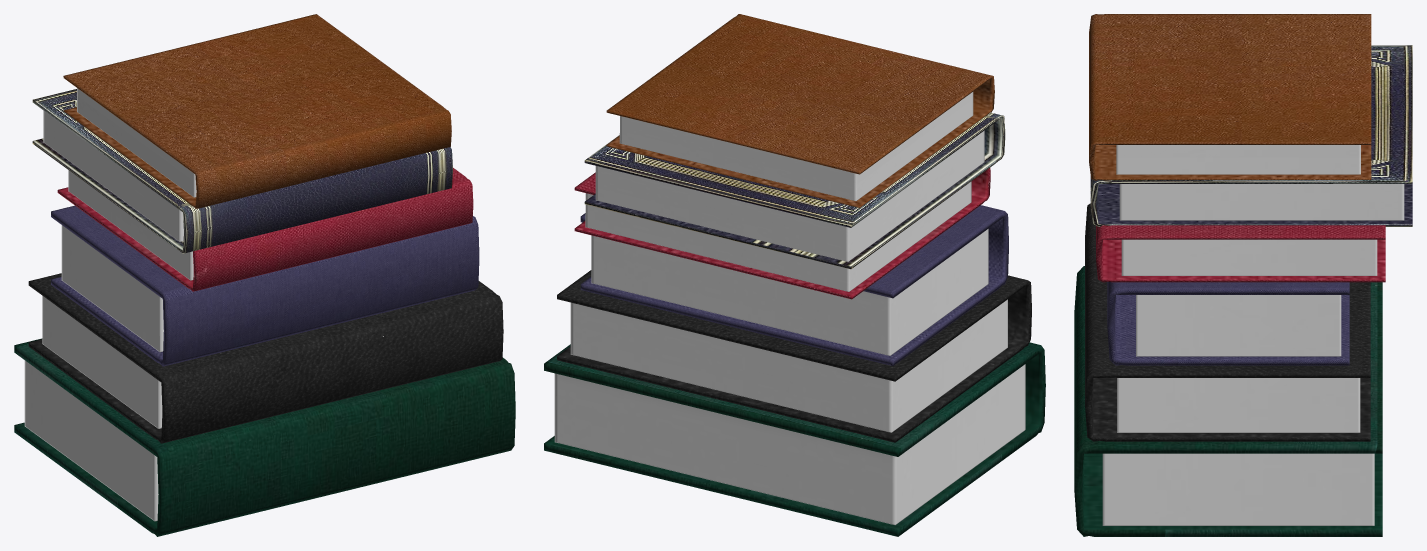
The model's file is Books_004.fbx.
The picture shows the model from 3 angles, left to right: view 1: azimuth 30°, elevation 25°; view 2: azimuth 150°, elevation 25°; view 3: azimuth 270°, elevation 25°; orthographic projection. The views are drawn at different scales.
Visible parts, largest first — view 1: book.048, book.051, book.046, book.047, book.049, book.050; view 2: book.051, book.048, book.046, book.047, book.049, book.050; view 3: book.048, book.051, book.046, book.049, book.047, book.050.
Part boxes in pixels (<box>): book.048: <box>63,14,451,208</box>; book.051: <box>14,338,515,536</box>; book.046: <box>28,273,503,443</box>; book.047: <box>51,205,479,366</box>; book.049: <box>32,89,452,253</box>; book.050: <box>57,168,473,291</box>; book.051: <box>544,342,1045,536</box>; book.048: <box>606,14,994,207</box>; book.046: <box>557,270,1031,442</box>; book.047: <box>580,205,1008,365</box>; book.049: <box>584,112,1005,269</box>; book.050: <box>574,168,990,299</box>; book.048: <box>1089,14,1371,180</box>; book.051: <box>1074,266,1382,536</box>; book.046: <box>1085,203,1370,441</box>; book.049: <box>1090,45,1412,226</box>; book.047: <box>1107,282,1349,365</box>; book.050: <box>1096,225,1385,282</box>.
Size of the model in its own units: 37.12 by 35.05 by 29.41.
